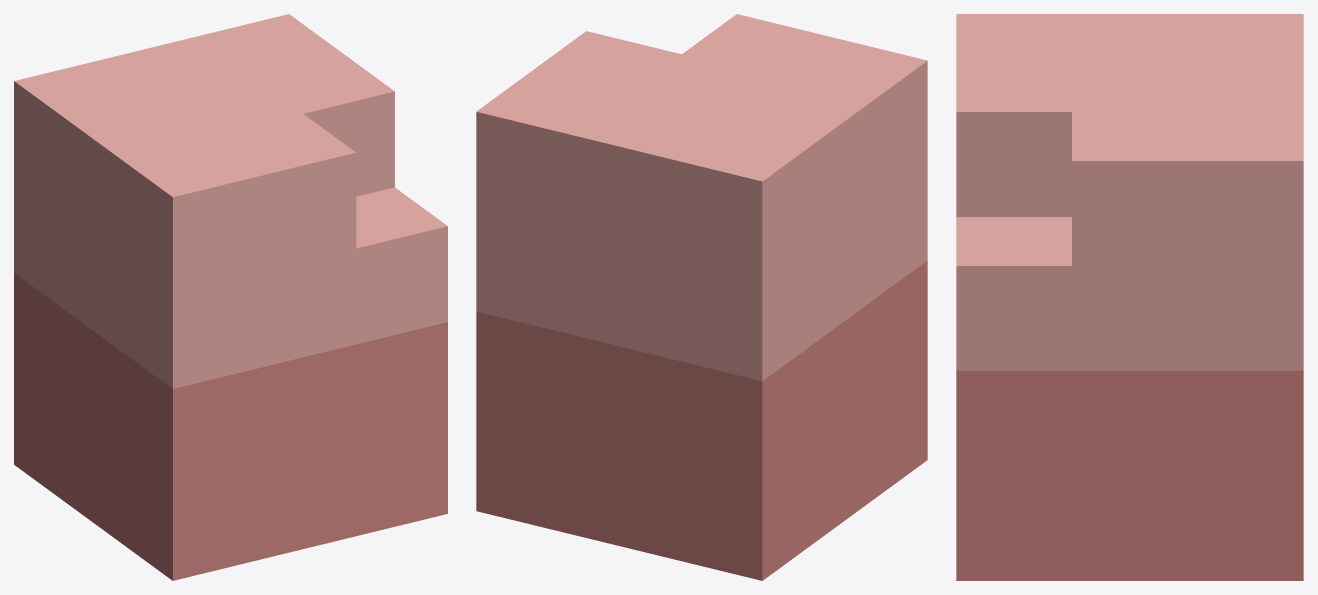
File: pig__leg_br.glb
The picture shows the model from 3 angles, left to right: view 1: azimuth 30°, elevation 25°; view 2: azimuth 150°, elevation 25°; view 3: azimuth 270°, elevation 25°; orthographic projection. The views are drawn at different scales.
Visible parts, largest first — view 1: pig__leg_br; view 2: pig__leg_br; view 3: pig__leg_br.
Boxes of the visible parts, x1,y1,x2,y2 form: pig__leg_br: (14, 14, 447, 580); pig__leg_br: (476, 14, 927, 580); pig__leg_br: (956, 14, 1303, 580).
Size of the model in its own units: 0.3 by 0.4 by 0.3.
1 material, 1 textured.
